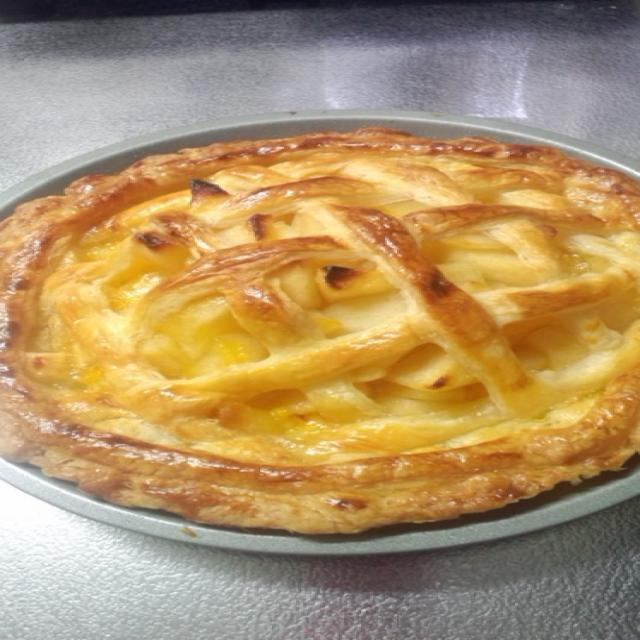Apple: (3, 135, 639, 515)
